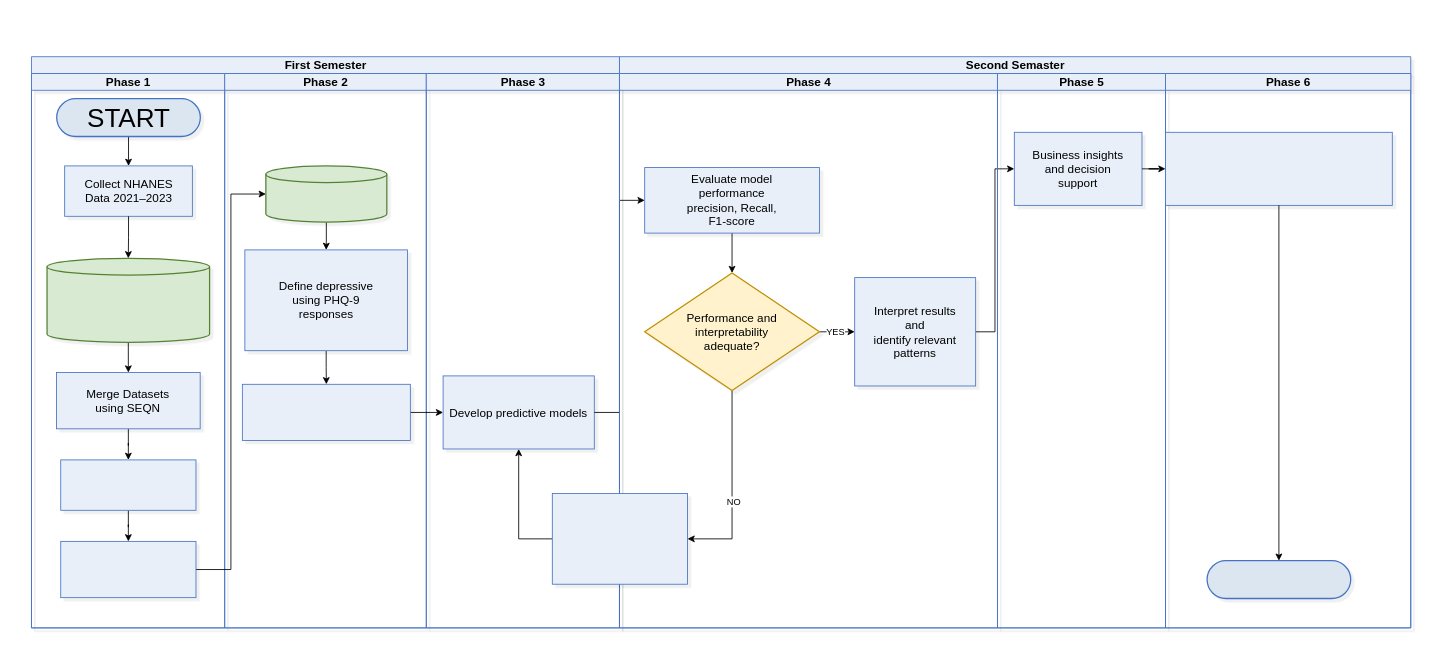
Image size: 1429x646. Some labels were removed from this diagram. The shapes that lost their labels are listed below. From the top down, each one's centre as x and y in pixels, then its label:
At (1280,170): "Prioritise further screening Plan support services Allocate resources".
At (327,195): "Prepared analysis dataset".
At (129,301): "NHANES Raw Data Store DEMO_L and DPQ_L".
At (328,413): "Exploratory Data Analysis (EDA)".
At (129,486): "Filter adults aged 65 and older".
At (621,540): "Review data preparation and model settings".
At (129,571): "Clean data and handle missing values".
At (1280,581): "END".
